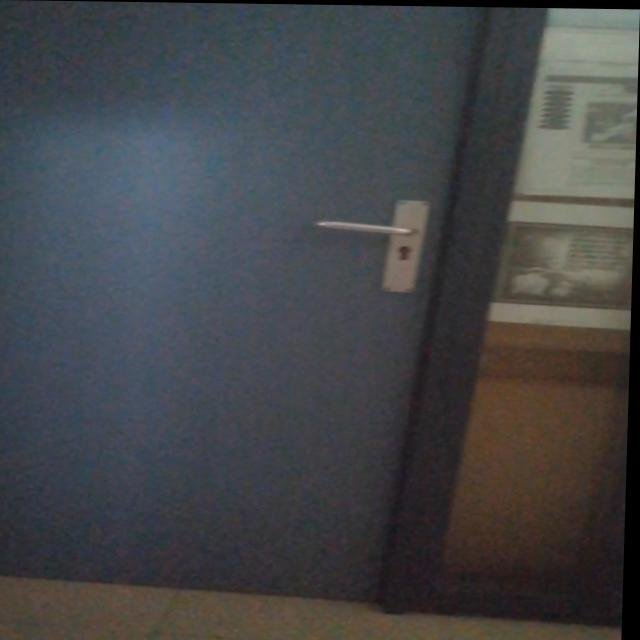door_handle: (311, 216, 420, 237)
